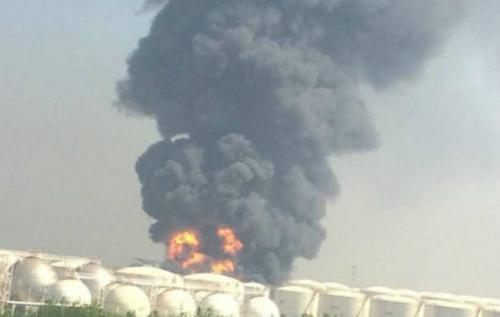fire: (160, 226, 258, 273)
smoke: (134, 7, 360, 203)
